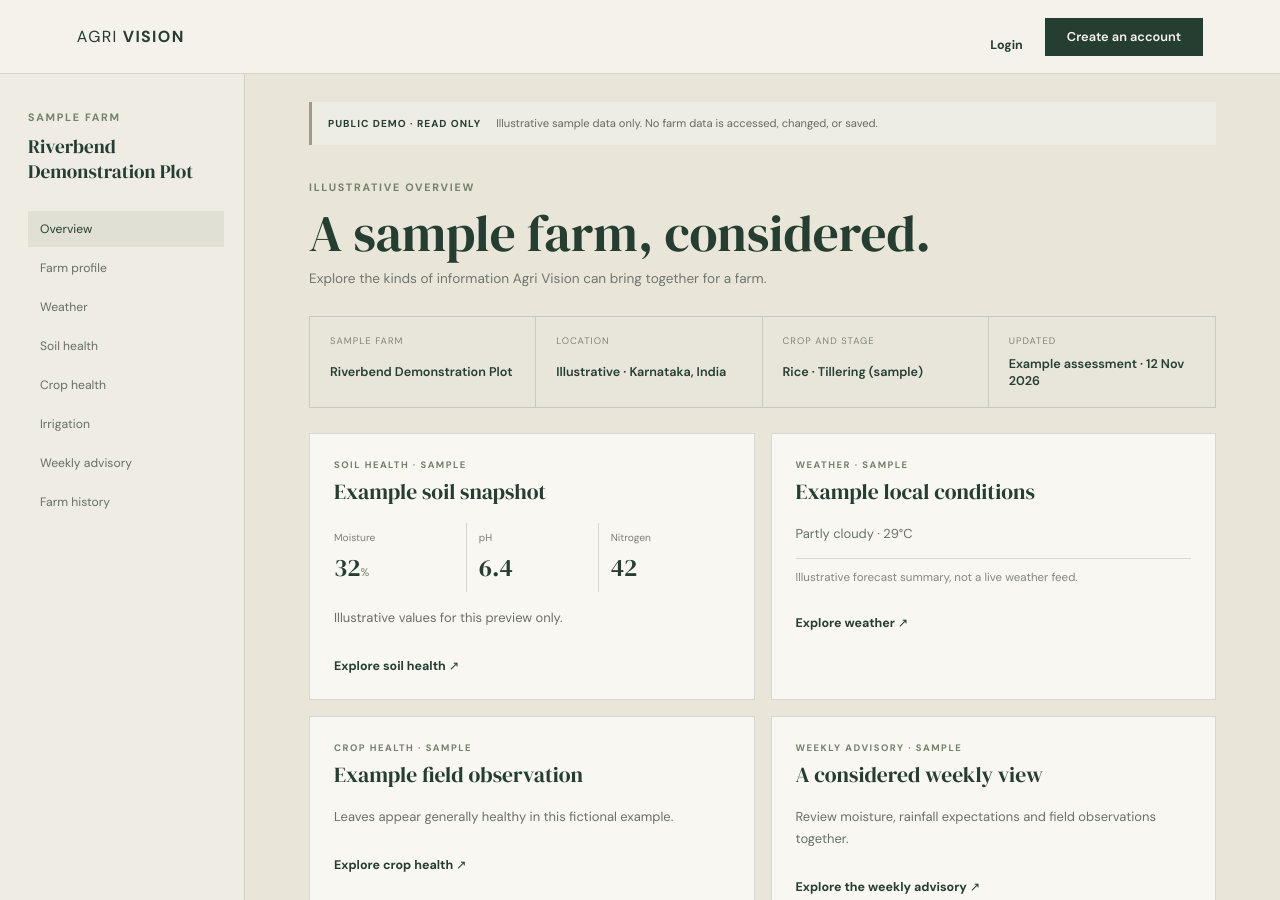
public illustrative demo › navigates among the eight sample sections without leaving the public demo
This screenshot has width=1280, height=900.
Click the link "Farm history": point(75, 502) left=40, top=494, right=110, bottom=510
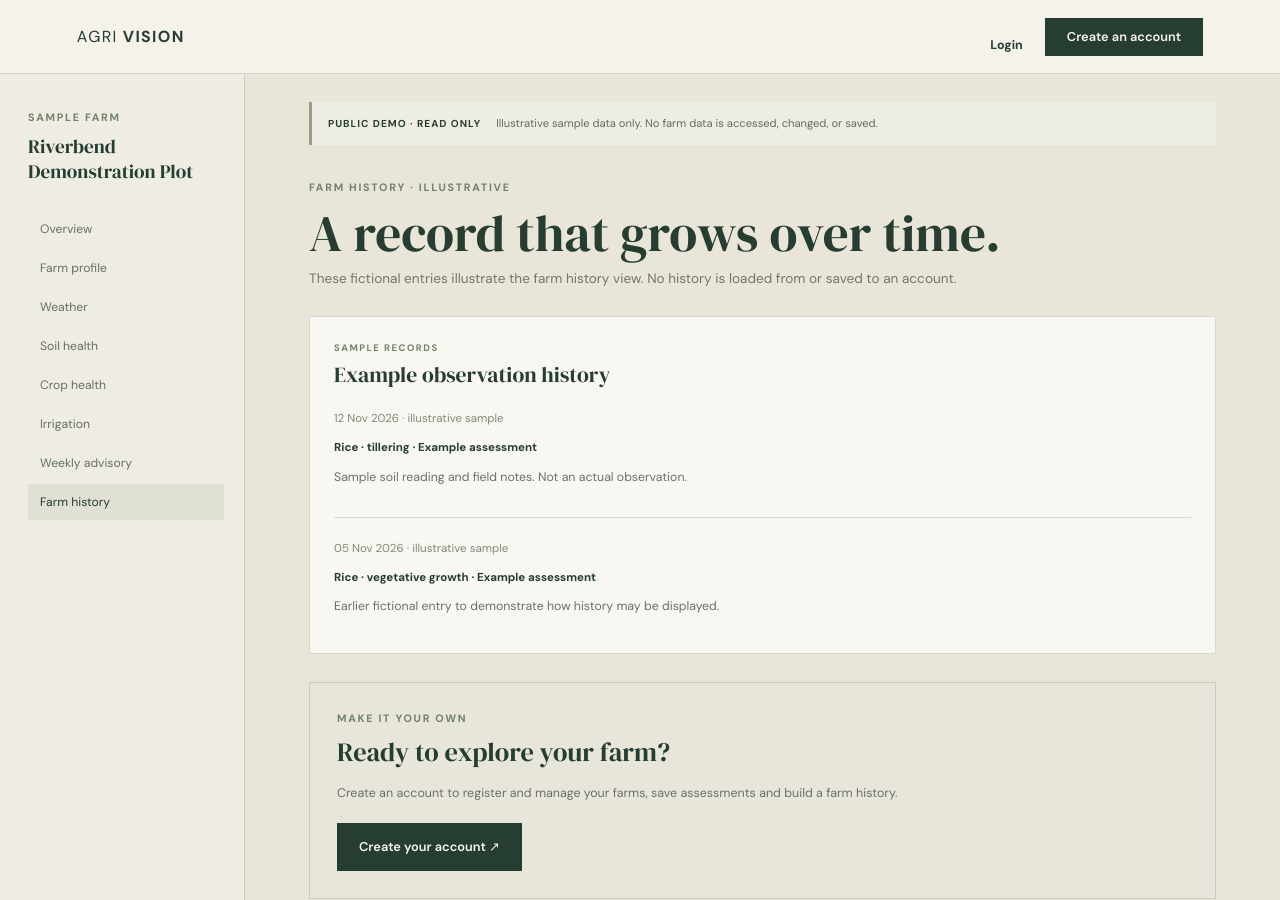
Expected: the heading "A record that grows over time." is shown, left=309, top=205, right=1001, bottom=261
Click the link "Irrigation": point(65, 424) left=40, top=416, right=90, bottom=432
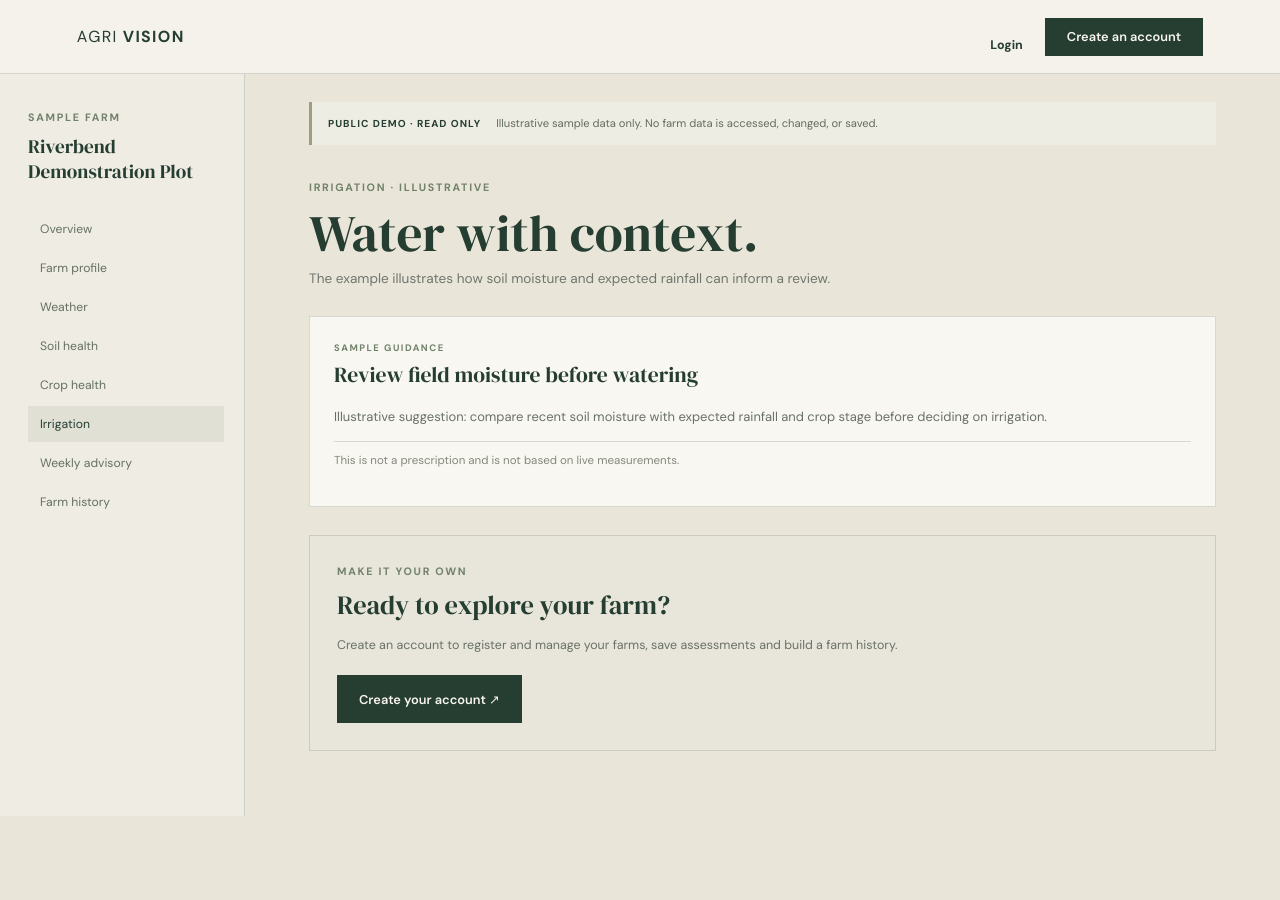
Expected: the heading "Water with context." is shown, left=309, top=205, right=830, bottom=261
